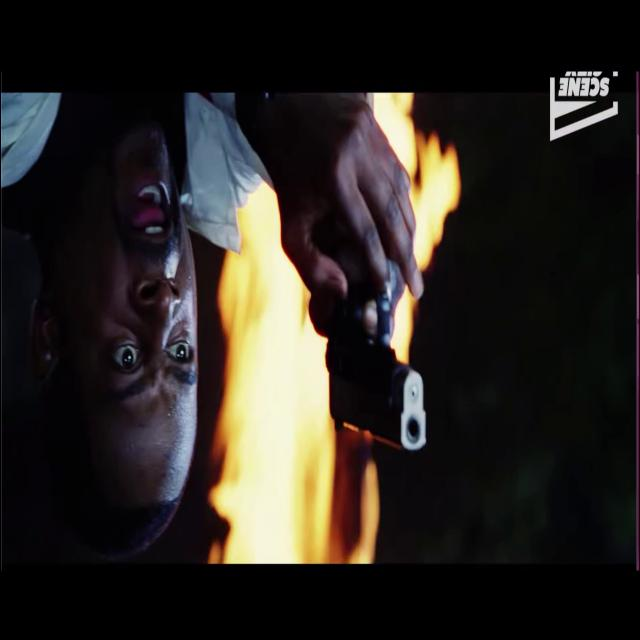weapons: (313, 186, 435, 470)
